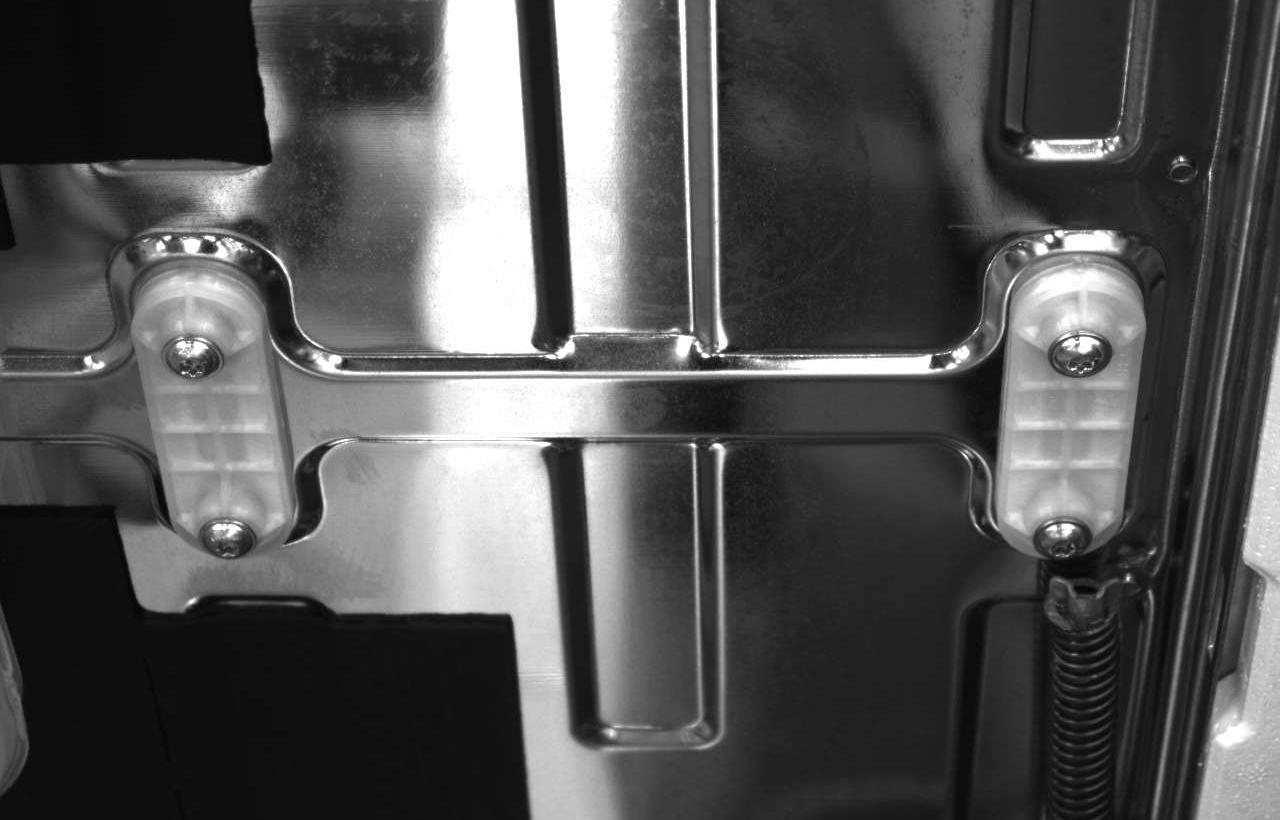vida-ok: (156, 327, 227, 394), (1046, 321, 1113, 388), (194, 502, 260, 561), (1027, 505, 1093, 564)
